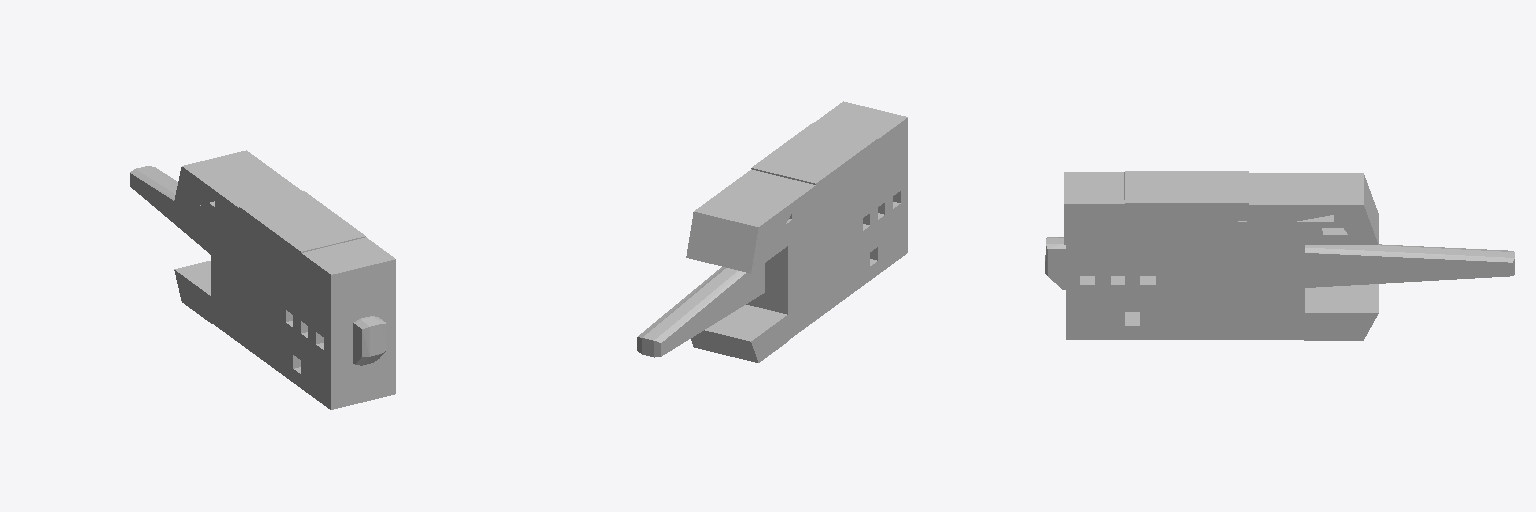
Rendered from missile, audemedon model.obj.
The picture shows the model from 3 angles: view 1: azimuth 30°, elevation 25°; view 2: azimuth 150°, elevation 25°; view 3: azimuth 270°, elevation 25°; orthographic projection.
Size of the model in its own units: 40 by 80.94 by 250.